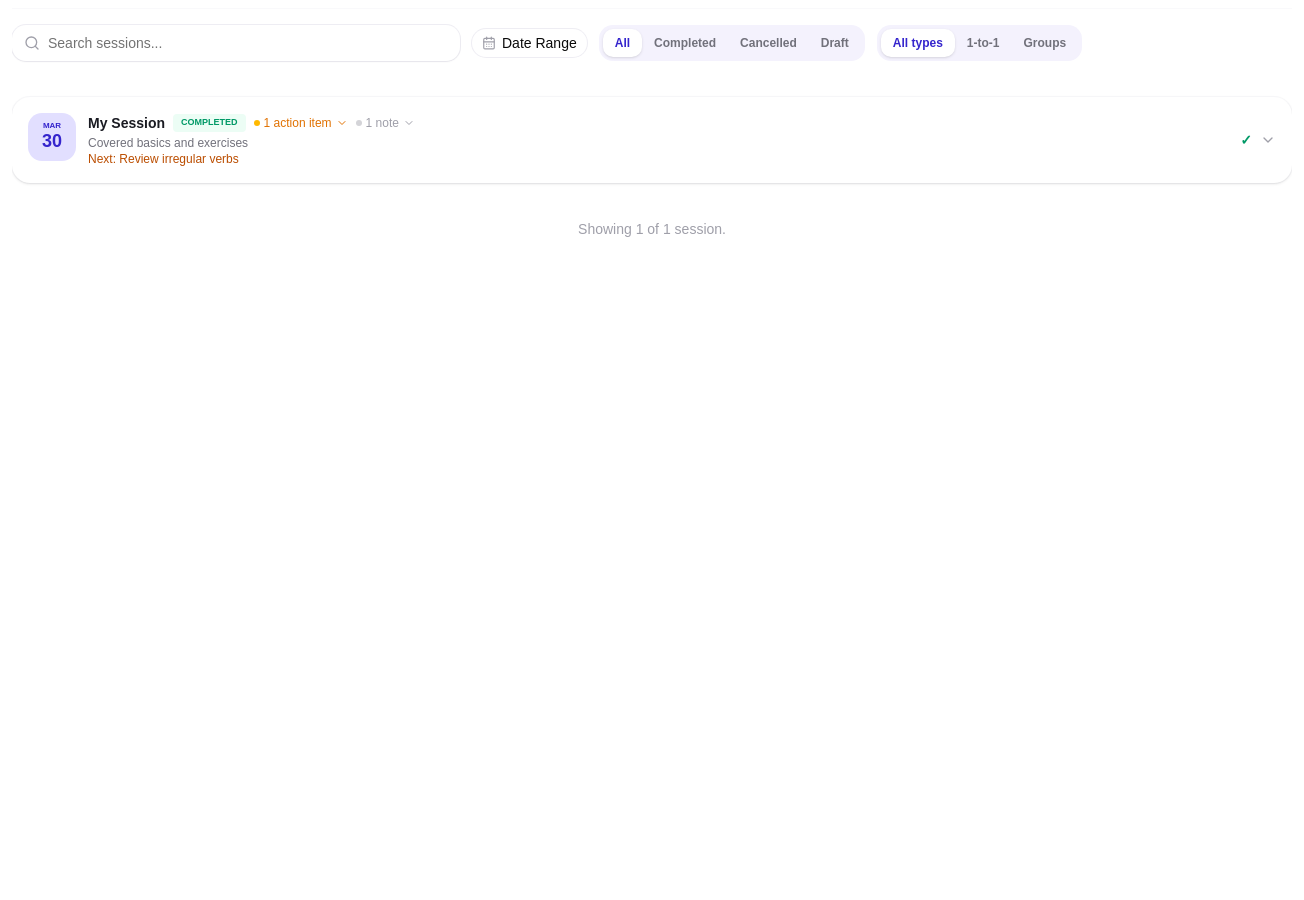
Scenario: SessionHistoryTab › shows session title as editable input in expanded state
The width and height of the screenshot is (1304, 900).
Click the button with test id "session-entry-toggle" at (52, 137), box [12, 97, 1292, 183]
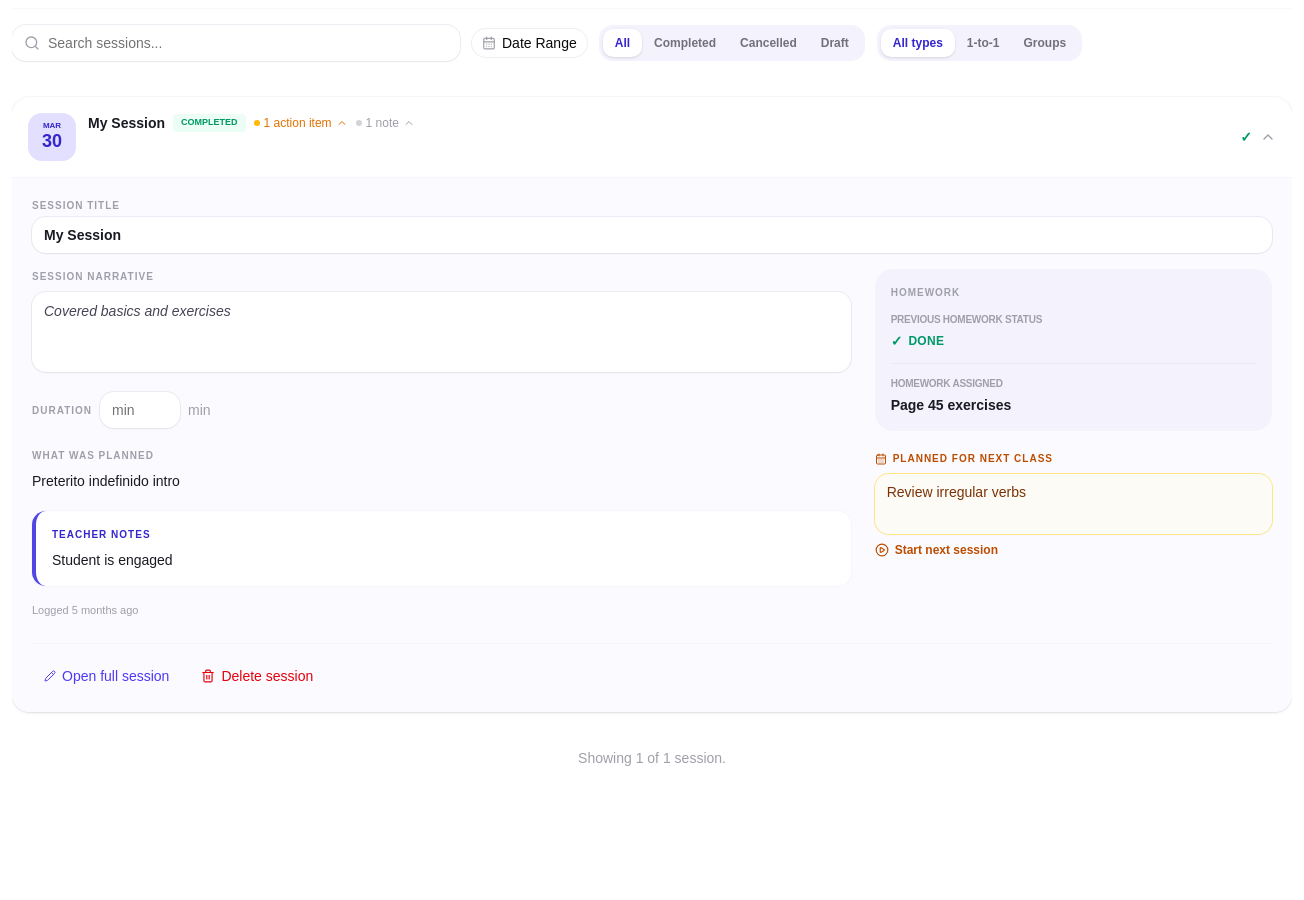
Check: the field with test id "session-title-input" holds "My Session", box [32, 217, 1272, 253]
